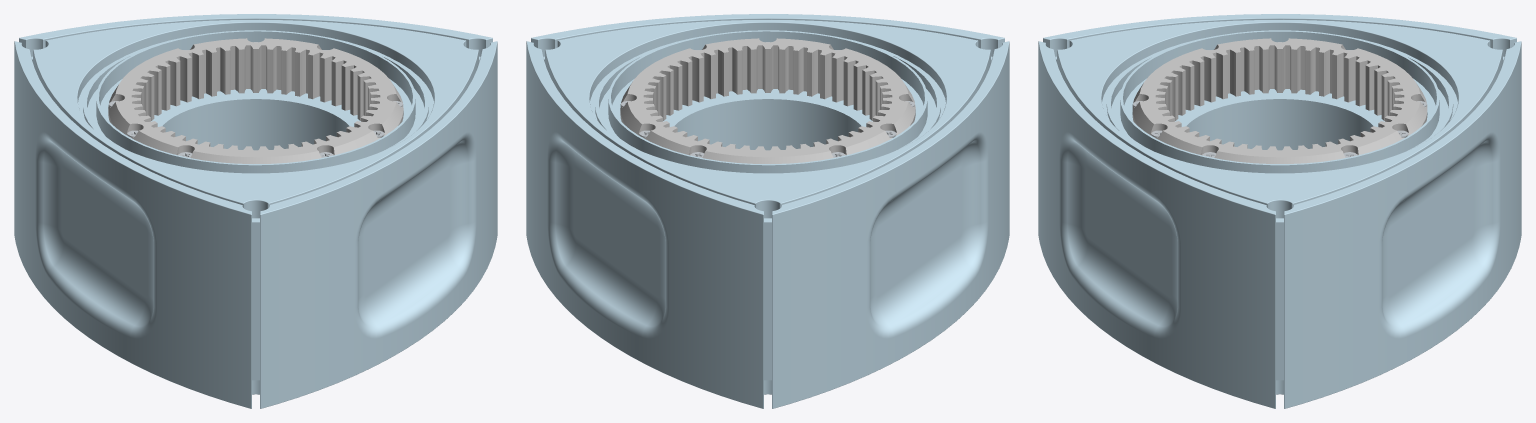
The model's file is wankel-engine.glb.
3 renders of one model, left to right at view 1: azimuth 30°, elevation 25°; view 2: azimuth 150°, elevation 25°; view 3: azimuth 270°, elevation 25°, orthographic.
Visible parts, largest first — view 1: Part 1 (×2); view 2: Part 1 (×2); view 3: Part 1 (×2).
Boxes of the visible parts, x1,y1,x2,y2 form: Part 1 (×2): (14,14,497,408); Part 1 (×2): (526,14,1009,408); Part 1 (×2): (1038,14,1521,408).
Bounding box in the file's own units: 0.1769 × 0.08 × 0.1799.
